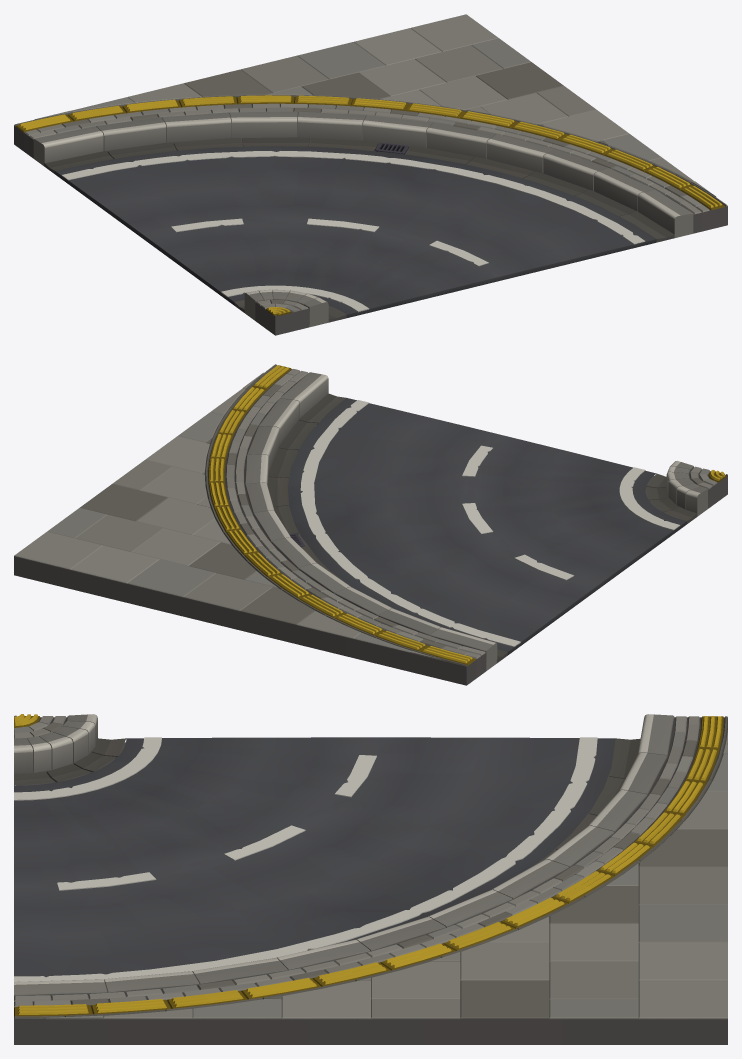
Rendered from road-corner-accessible-01.glb.
The picture shows the model from 3 angles, top to bottom: view 1: azimuth 30°, elevation 25°; view 2: azimuth 150°, elevation 25°; view 3: azimuth 270°, elevation 25°; orthographic projection. The views are drawn at different scales.
Parts seen in each view (by area): view 1: road_corner_accessible_01; view 2: road_corner_accessible_01; view 3: road_corner_accessible_01.
Part boxes in pixels (x1,y1,x2,y2): road_corner_accessible_01: (14, 14, 727, 335); road_corner_accessible_01: (14, 364, 727, 685); road_corner_accessible_01: (14, 714, 727, 1044).
Bounding box in the file's own units: 4 × 0.1819 × 4.
